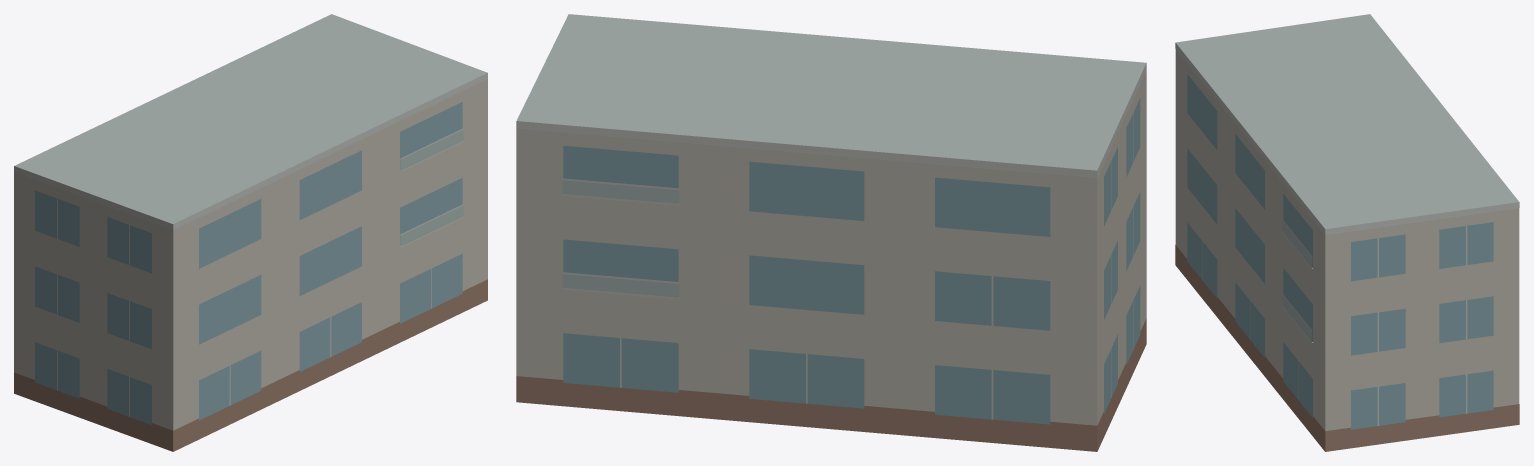
Rendered from survey-upis-33022996.glb.
The picture shows the model from 3 angles, left to right: view 1: azimuth 30°, elevation 25°; view 2: azimuth 150°, elevation 25°; view 3: azimuth 270°, elevation 25°; orthographic projection. The views are drawn at different scales.
Visible parts, largest first — view 1: survey-upis-33022996.tmp; view 2: survey-upis-33022996.tmp; view 3: survey-upis-33022996.tmp.
Boxes of the visible parts, x1,y1,x2,y2 form: survey-upis-33022996.tmp: (14,14,487,451); survey-upis-33022996.tmp: (516,14,1146,451); survey-upis-33022996.tmp: (1175,14,1519,451).
Size of the model in its own units: 18.87 by 9.1 by 12.75.
